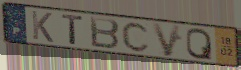B: (88, 15, 121, 51)
C: (121, 21, 152, 54)
K: (30, 9, 55, 45)
Q: (185, 27, 214, 62)
T: (61, 13, 86, 46)
V: (150, 21, 183, 58)
